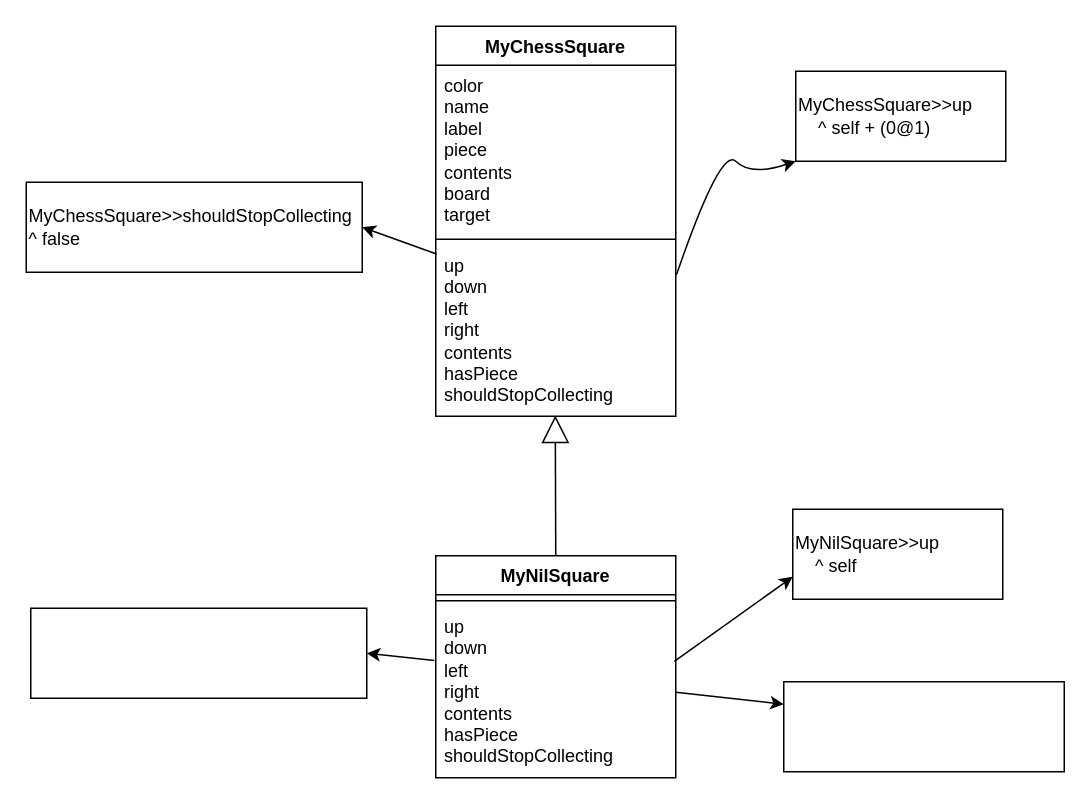
Image size: 1091x809. Some labels were removed from this diagram. The centre of each missing label's shape, as x and y in pixels:
MyNilSquare>>contents ^MyNilPiece new.: (x=923, y=726)
MyNilSquare>>shouldStopCollecting ^ true: (x=198, y=652)
